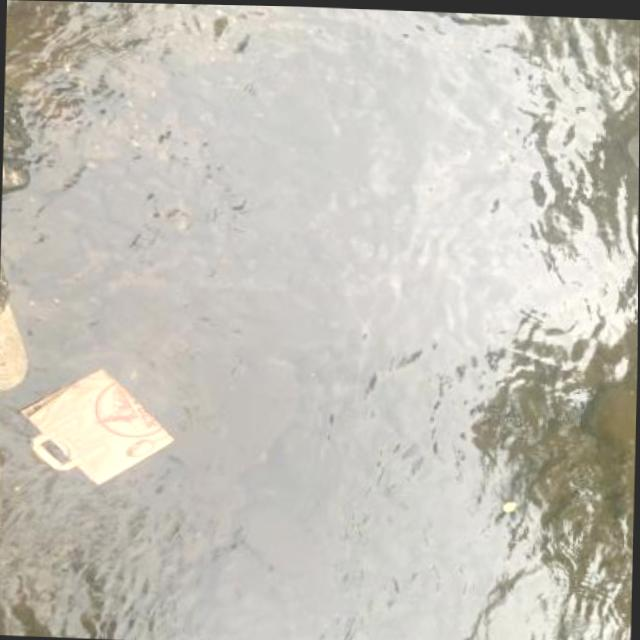Paper: (14, 358, 182, 491)
